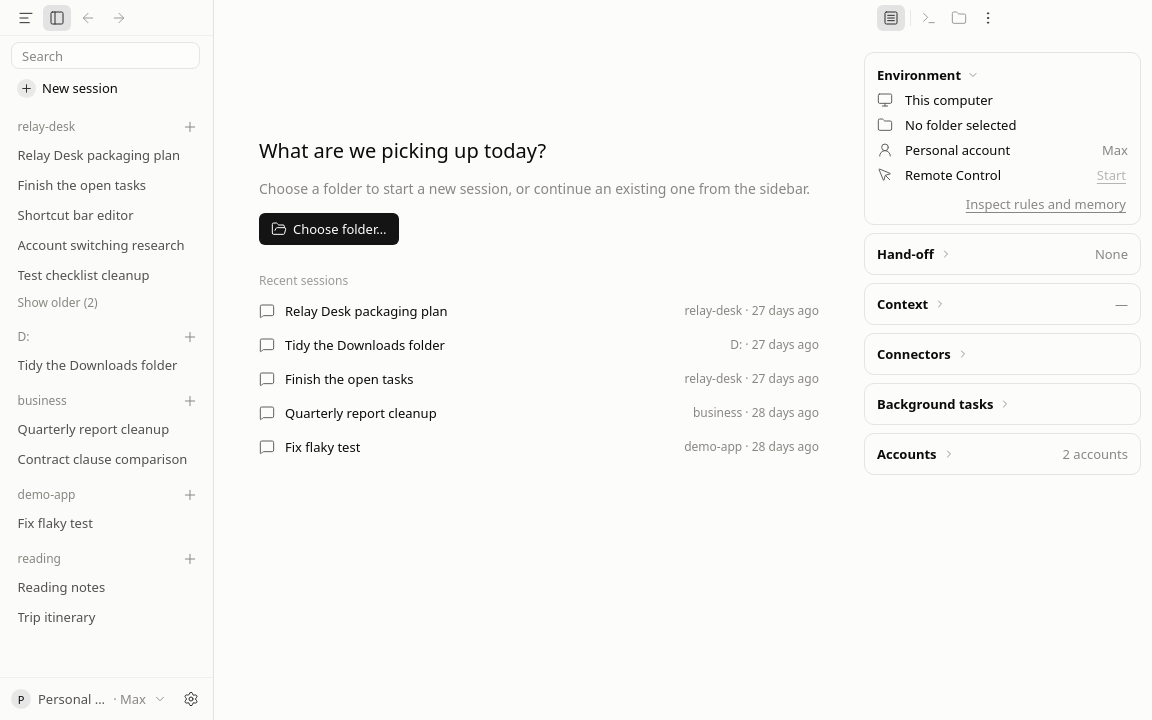
Test: app shell › the account chip shows the active profile and switches the list only on a click (R5)
The image size is (1152, 720).
Click the button with aria-label "Account: Personal account".
click(90, 699)  # box x1=6 y1=683 x2=173 y2=715
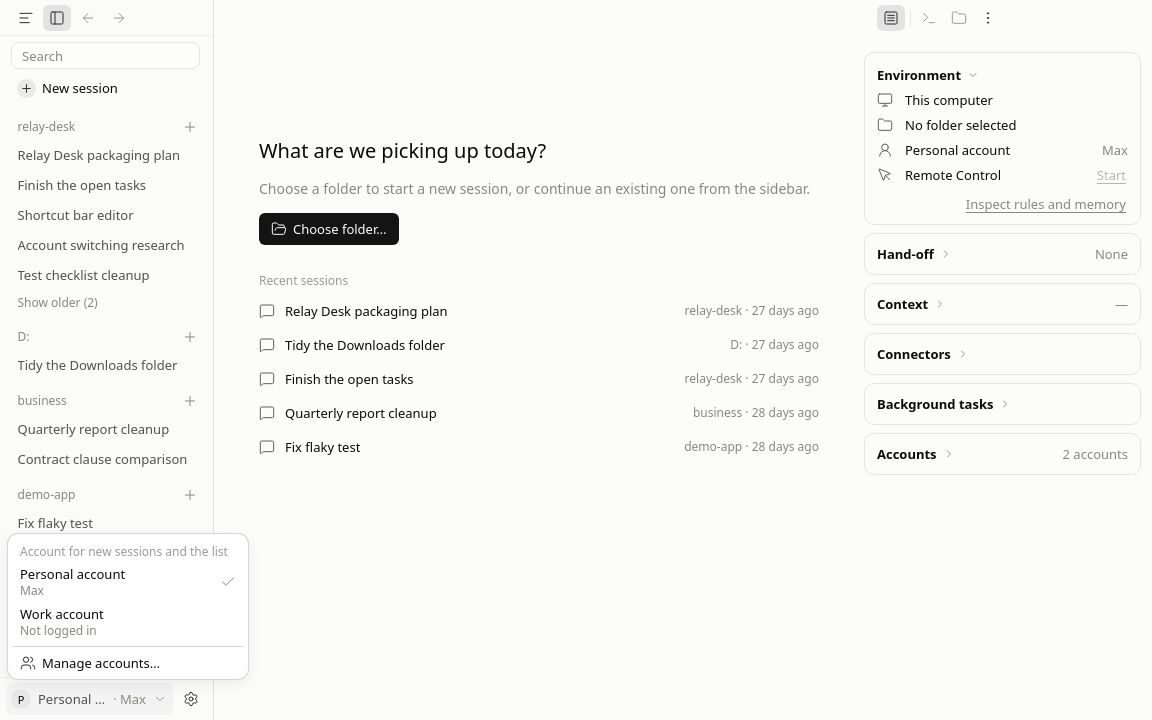
Click the menu item "Work account Not logged in".
click(62, 622)  # box x1=20 y1=605 x2=104 y2=639
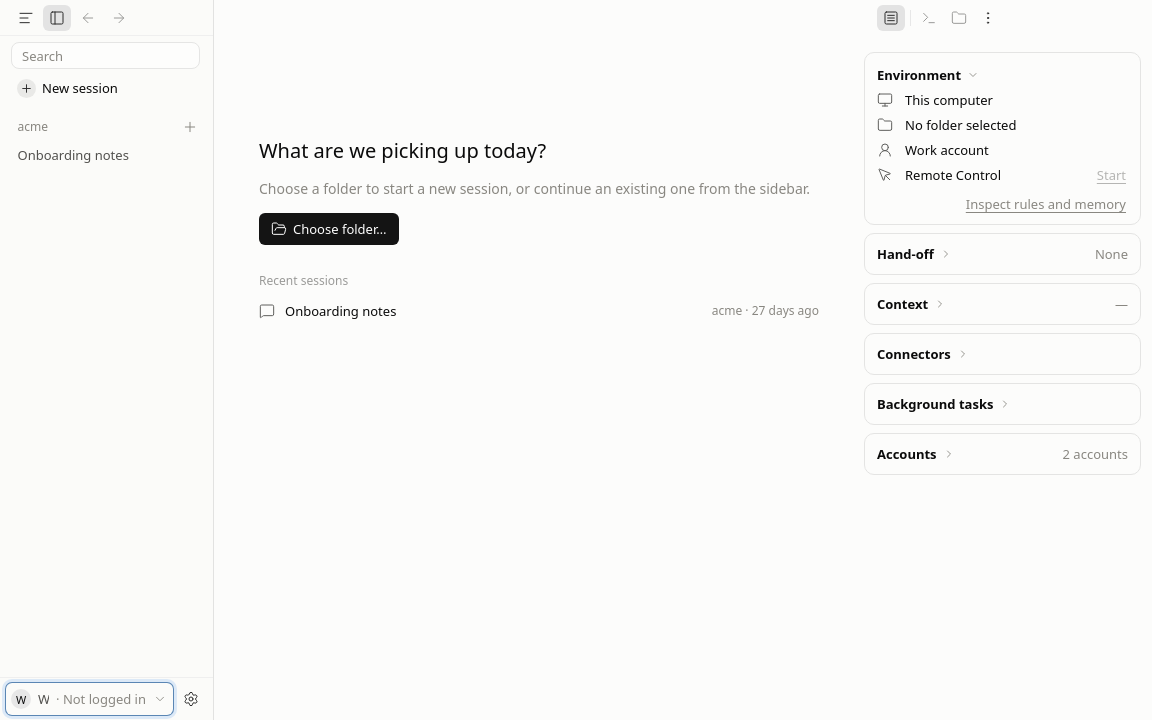
Now the button "Onboarding notes" is shown, box x1=7 y1=141 x2=206 y2=169
